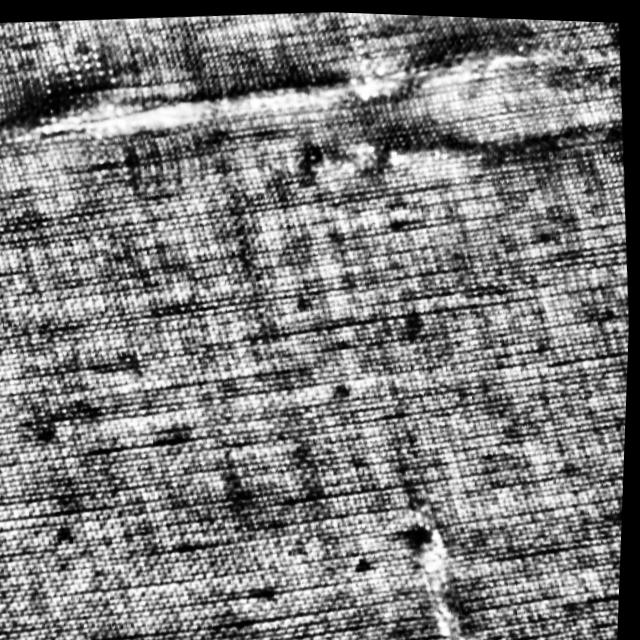Stitch: (0, 3, 544, 167), (383, 487, 497, 640)
